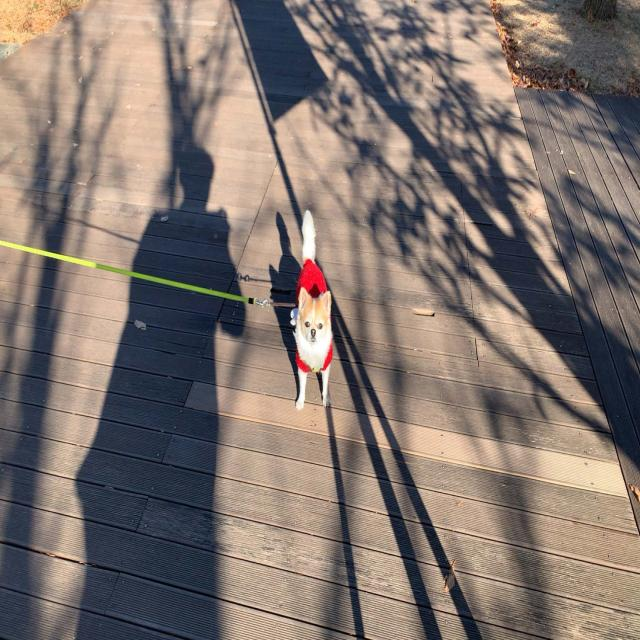Dog: (291, 210, 333, 412)
